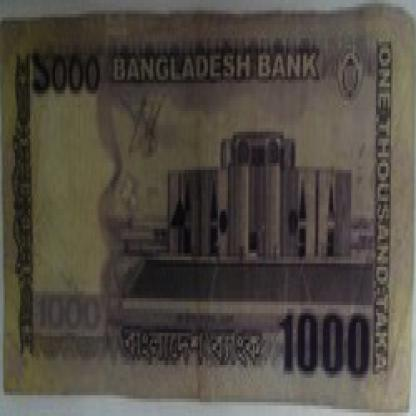One Thousand taka: (274, 309, 372, 382), (30, 49, 103, 97), (36, 291, 104, 336)
